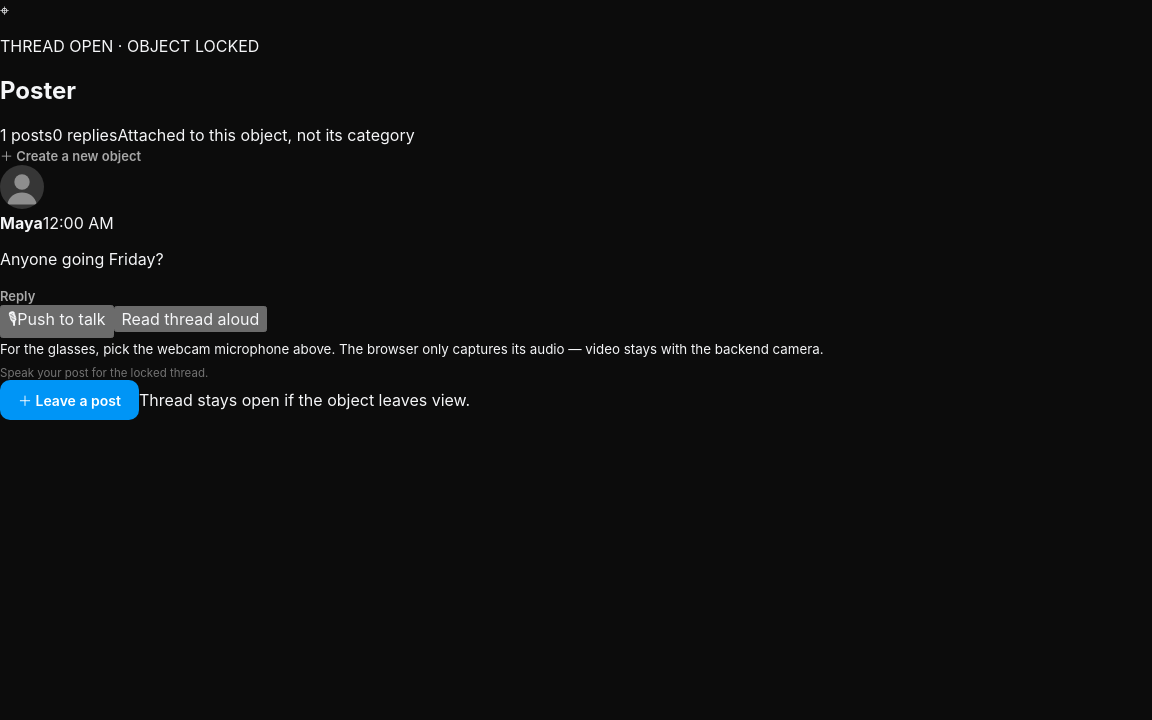
reply command works before a draft exists and keeps the parent target
The image size is (1152, 720).
Check: the text "Anyone going Friday?" is shown, box x1=0 y1=249 x2=164 y2=269
Click the button "🎙Push to talk". click: click(57, 321)
box: x1=0 y1=305 x2=114 y2=338
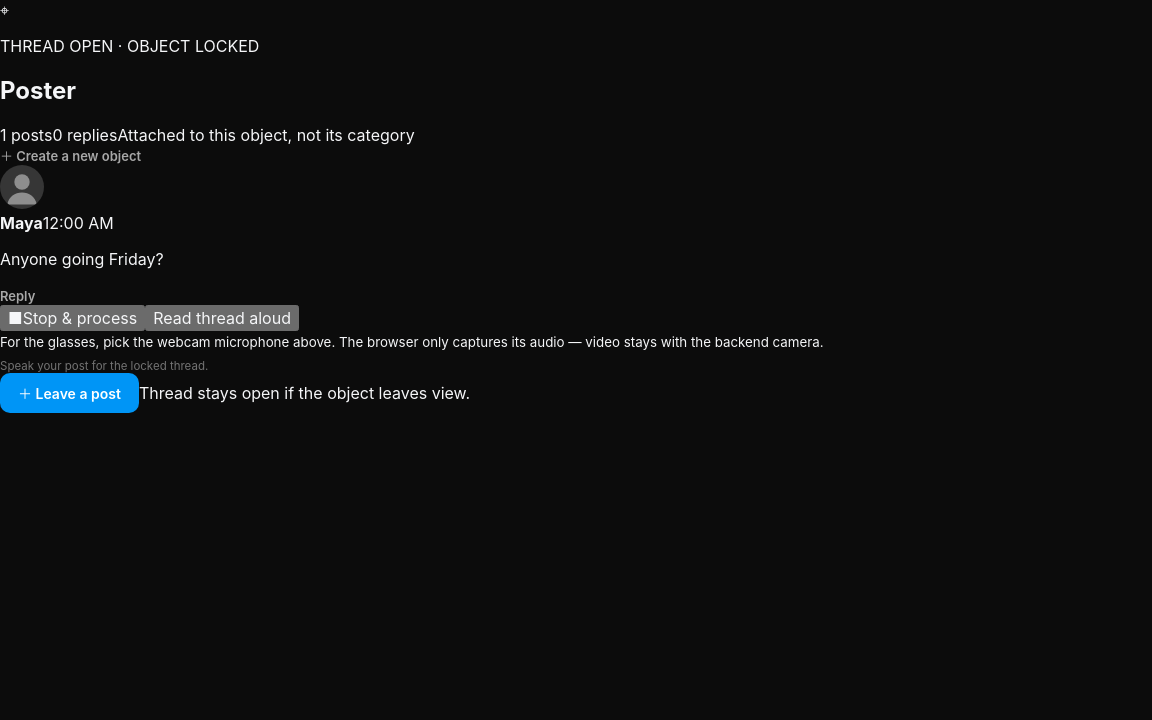
Click the button "■Stop & process". click: click(73, 318)
box: x1=0 y1=305 x2=145 y2=331
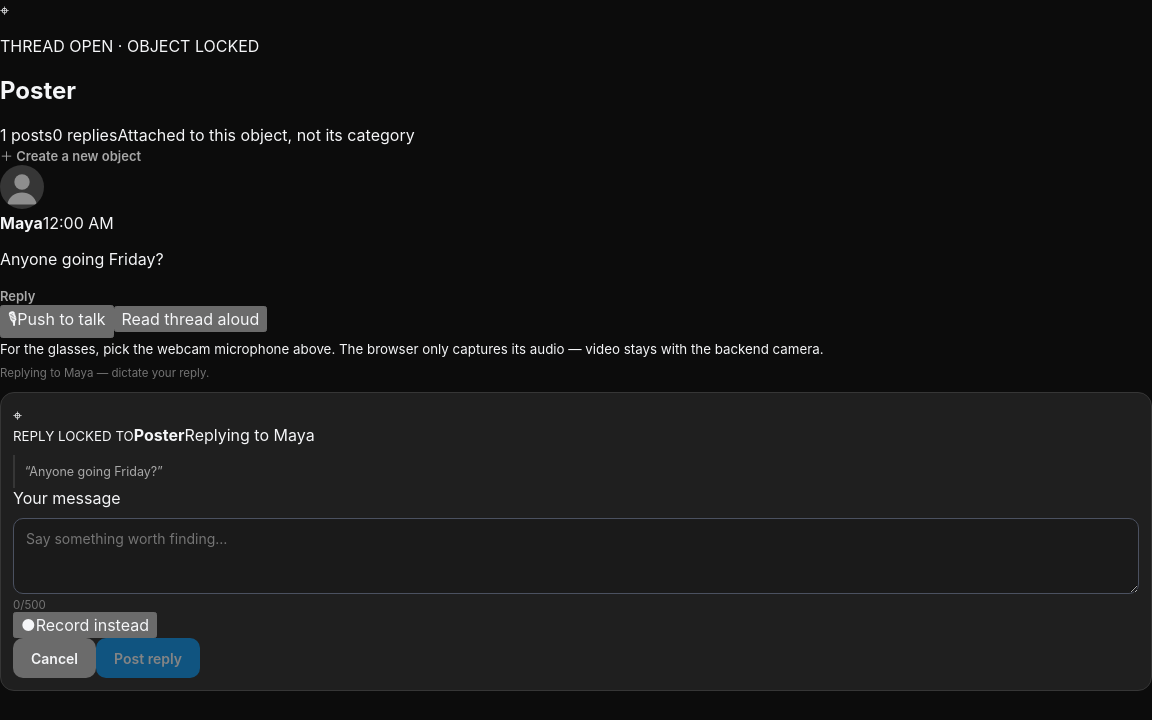
Check: the text "REPLY LOCKED TO" is shown, box x1=13 y1=428 x2=134 y2=444
Check: the text "Replying to Maya" is shown, box x1=185 y1=425 x2=315 y2=445
